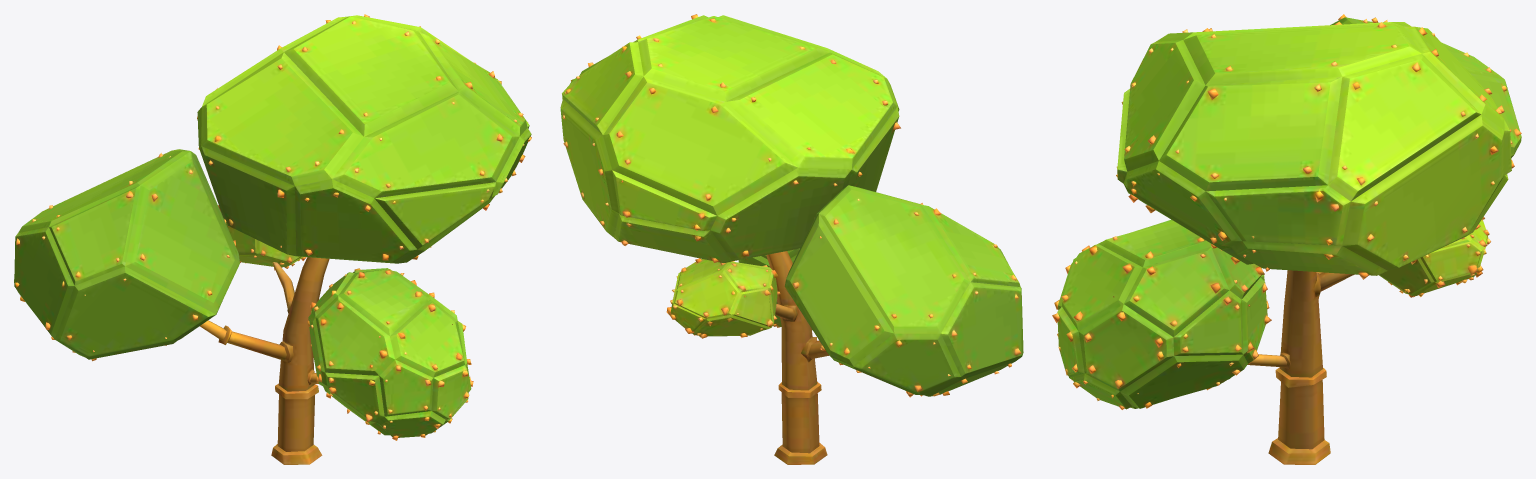
File: obj_tree02_base.gltf
3 views of the same model, side by side, from view 1: azimuth 30°, elevation 25°; view 2: azimuth 150°, elevation 25°; view 3: azimuth 270°, elevation 25° (orthographic). The views are drawn at different scales.
Visible parts, largest first — view 1: obj_tree02_base; view 2: obj_tree02_base; view 3: obj_tree02_base.
Boxes of the visible parts, x1,y1,x2,y2 form: obj_tree02_base: [14, 14, 531, 464]; obj_tree02_base: [560, 14, 1023, 464]; obj_tree02_base: [1052, 14, 1521, 464].
Size of what is drawn, in the model's own units: 5.04 by 4.12 by 3.76.
1 material, 1 textured.
